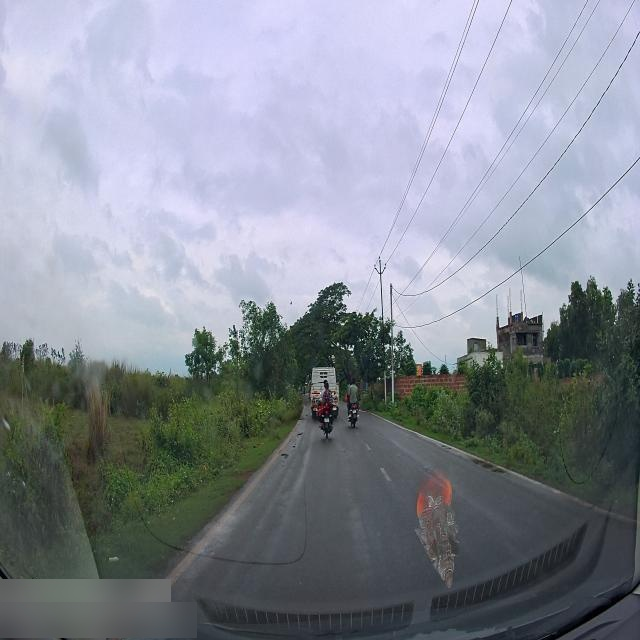pothole: (470, 454, 502, 476), (282, 446, 290, 464), (296, 428, 304, 438)
